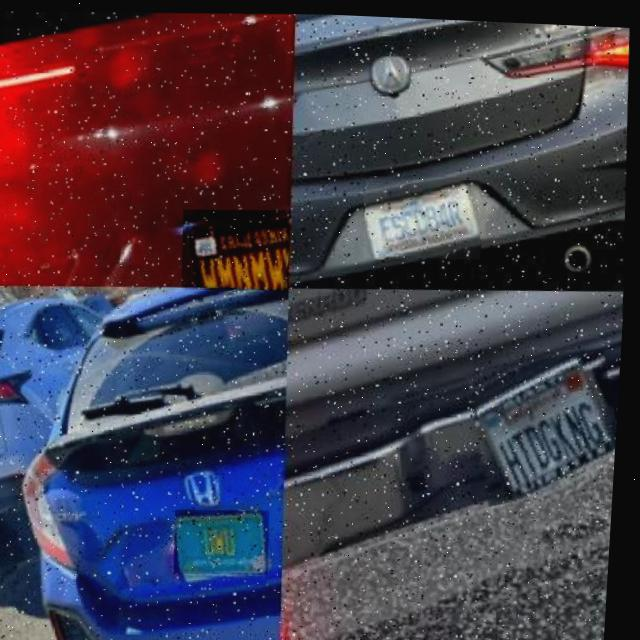LicensePlate: (477, 346, 621, 496), (367, 176, 483, 254), (186, 208, 293, 287), (181, 508, 274, 571)
